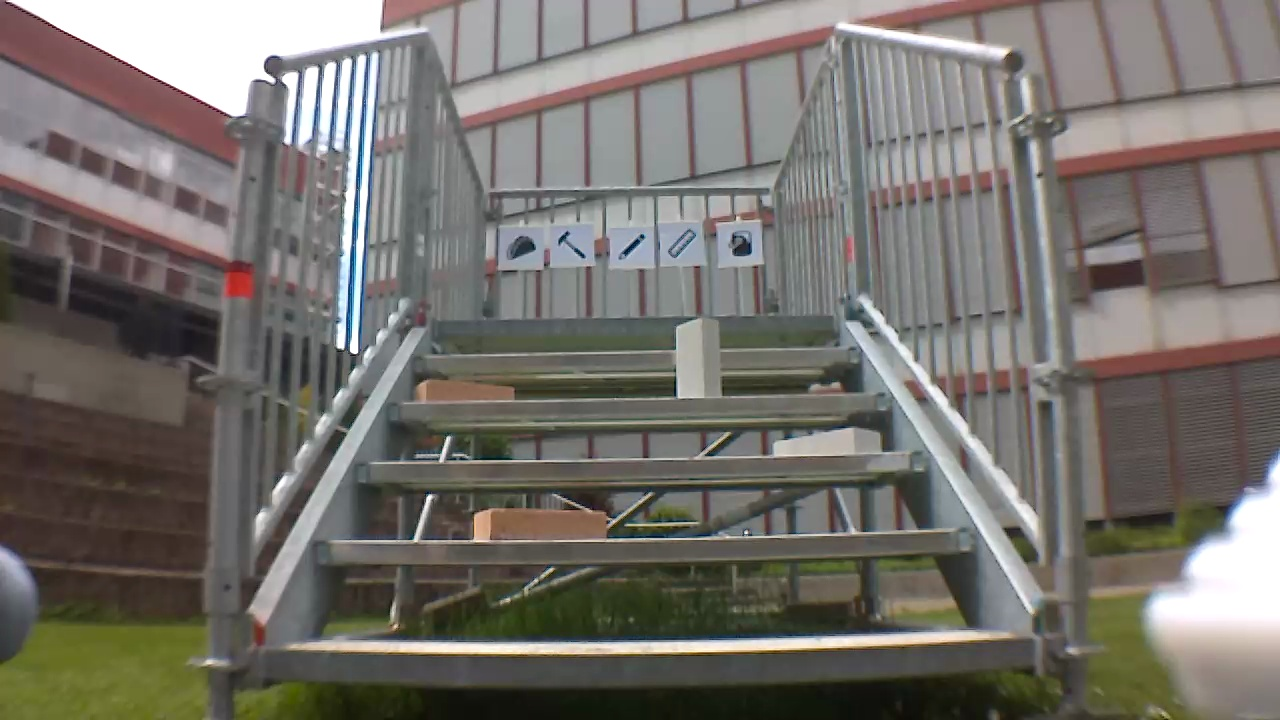brick: (474, 508, 606, 540), (677, 318, 720, 398), (775, 428, 881, 453), (414, 380, 513, 402)
bucket: (723, 225, 755, 259)
edge: (265, 638, 1036, 683), (317, 527, 977, 562), (356, 452, 928, 478), (389, 392, 888, 416), (415, 347, 857, 369), (433, 314, 842, 332)
hammer: (554, 228, 589, 261)
pencil: (615, 230, 649, 263)
ruler: (665, 224, 697, 259)
stairs: (188, 28, 1090, 715)
steps: (265, 310, 1048, 695)
taco: (504, 231, 539, 263)
